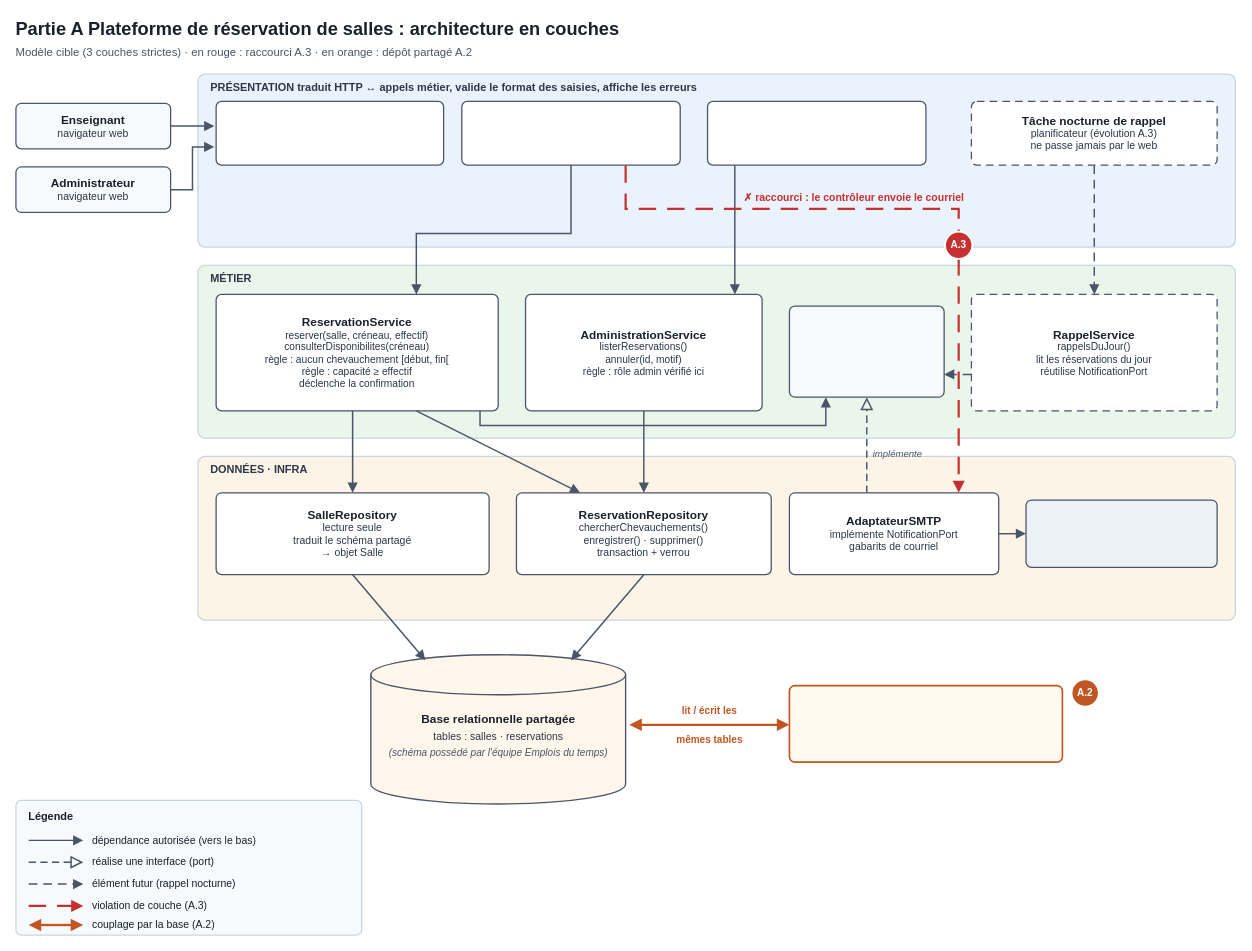
This 1252x951 diagram has some shape labels left out. The shapes that lost their labels are listed below. From the top down, each one's centre as x and y in pixels, then its label:
At (329,132): "Vues web (HTML) disponibilités · formulaire liste des réservations (admin)".
At (570,132): "ReservationController GET /disponibilites POST /reservations".
At (816,132): "AdminController GET /admin/reservations DELETE /admin/reservations/{id}".
At (866,351): "«interface» NotificationPort confirmation() rappel()".
At (1121,533): "Serveur de courriel externe".
At (925,723): "Système de gestion des emplois du temps (existant, autre équipe)".
